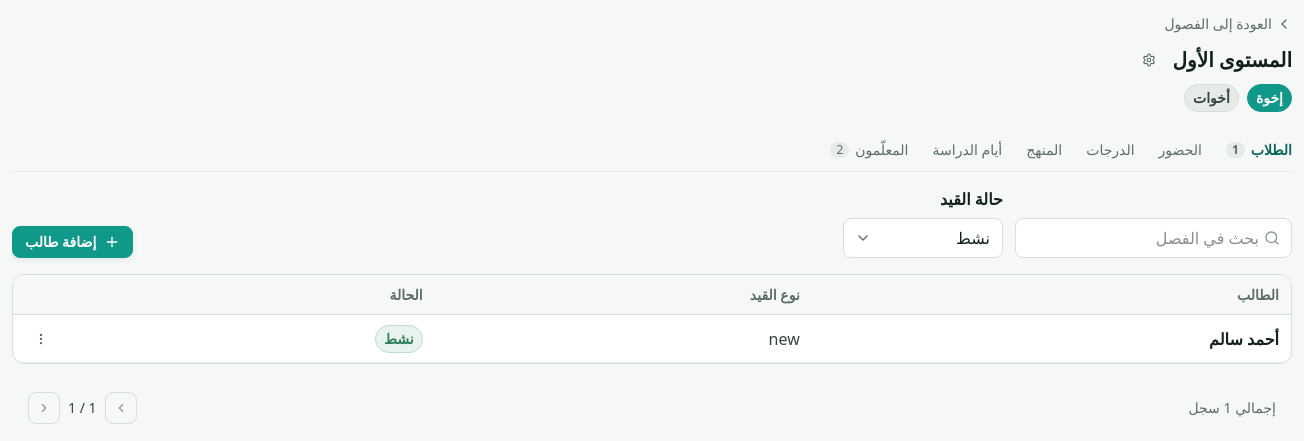
Scenario: LevelDetailPage — gender filter resolves the cohort › switches to the girls cohort roster when أخوات is chosen
The image size is (1304, 441).
Expected: the text "أحمد سالم" is shown, [1209, 327, 1279, 351]
Click the button "أخوات". click: coordinates (1211, 98)
box: [1184, 84, 1239, 112]
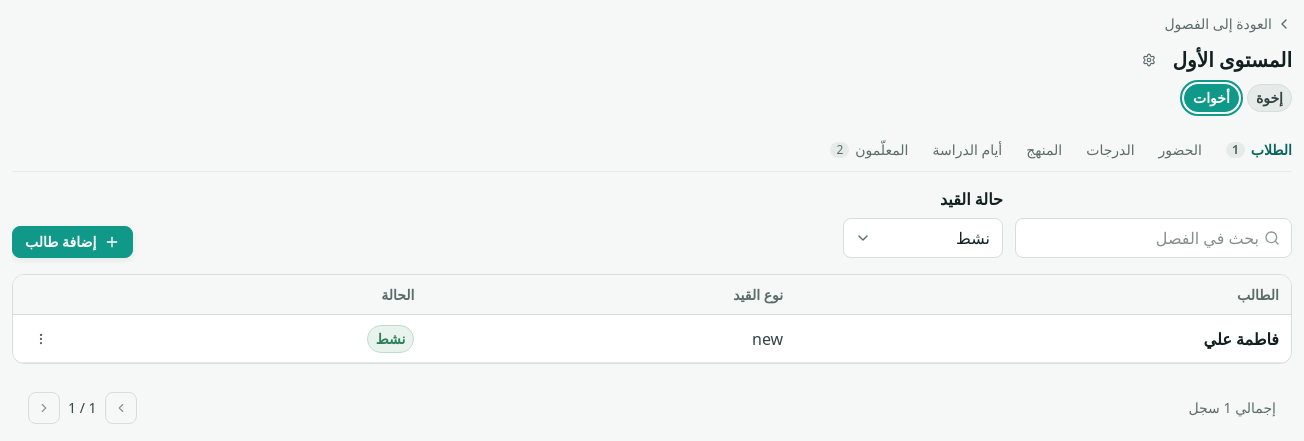
Now the text "فاطمة علي" is shown, box [1204, 327, 1279, 351]
